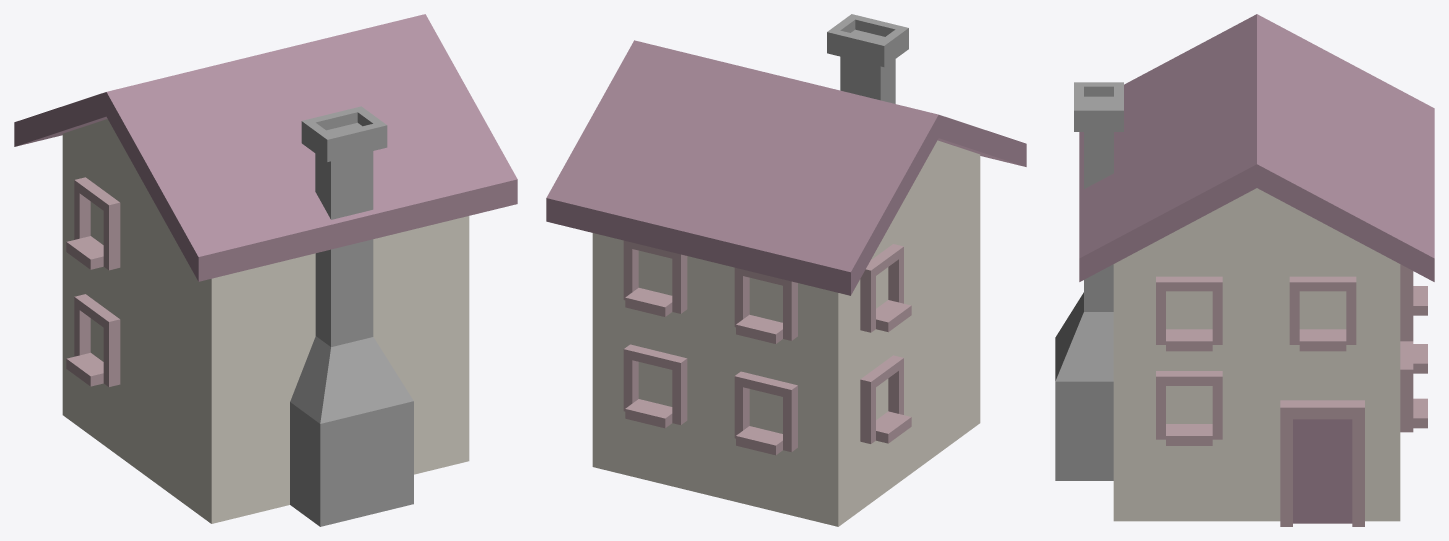
The model's file is SM_House_001.fbx.
3 views of the same model, side by side, from view 1: azimuth 30°, elevation 25°; view 2: azimuth 150°, elevation 25°; view 3: azimuth 270°, elevation 25° (orthographic). The views are drawn at different scales.
Visible parts, largest first — view 1: SM_House_001; view 2: SM_House_001; view 3: SM_House_001.
Part boxes in pixels (x1,y1,x2,y2): SM_House_001: (14,14,517,526); SM_House_001: (546,14,1026,526); SM_House_001: (1055,14,1434,526).
Bounding box in the file's own units: 585 × 675 × 624.
